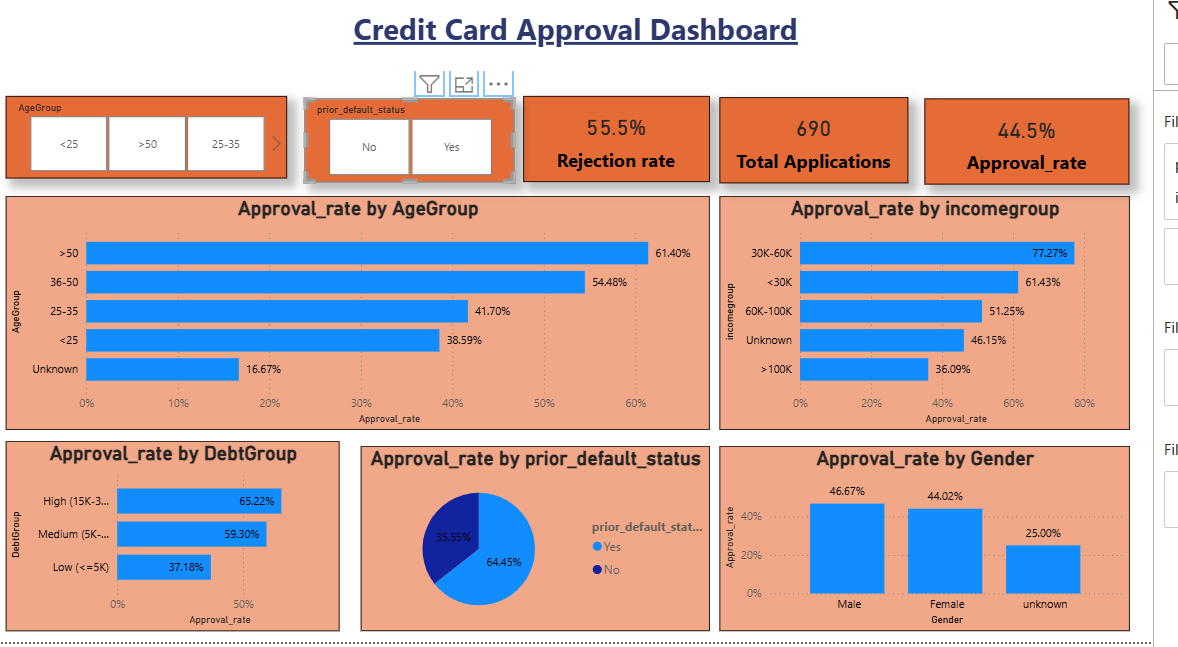

The dashboard page shown, as its layout file describes it:
{"tool":"powerbi","page":{"name":"Page 1","canvas":[1280,720],"ordinal":0},"visuals":[{"type":"clusteredBarChart","fields":{"Category":["credit_card.AgeGroup"],"Y":["credit_card.approval_rate"]},"box":[20.6,230.5,772.6,256.6],"z":0},{"type":"clusteredColumnChart","fields":{"Category":["credit_card.Gender"],"Y":["credit_card.approval_rate"]},"box":[804.1,505,450.1,203.1],"z":1000},{"type":"clusteredBarChart","fields":{"Category":["credit_card.incomegroup"],"Y":["credit_card.approval_rate"]},"box":[804.1,230.5,450.1,256.6],"z":2000},{"type":"card","fields":{"Values":["credit_card.Approval_rate"]},"box":[1029.2,123.5,225,94.7],"z":3000},{"type":"pieChart","fields":{"Category":["credit_card.prior_default_status"],"Y":["credit_card.Approval_rate"]},"box":[410.3,505,382.8,203.1],"z":4000},{"type":"clusteredBarChart","fields":{"Y":["credit_card.Approval_rate"],"Category":["credit_card.DebtGroup"]},"box":[20.6,499.5,366.4,208.6],"z":5000},{"type":"card","fields":{"Values":["credit_card.Rejection rate"]},"box":[588.7,120.8,204.5,94.7],"z":6000},{"type":"card","fields":{"Values":["credit_card.Total Applications"]},"box":[804.1,122.1,207.2,94.7],"z":7000},{"type":"slicer","fields":{"Values":["credit_card.AgeGroup"]},"box":[20.6,120.8,308.7,90.6],"z":8000},{"type":"slicer","fields":{"Values":["credit_card.prior_default_status"]},"box":[348.5,123.5,230.5,91.9],"z":9000},{"type":"textbox","box":[100.2,20.6,1092.3,72.7],"z":10000}]}

Visuals, with their boxes in screenshot pixels (x1, y1, x2, y2):
clusteredBarChart - credit_card.AgeGroup x credit_card.approval_rate: {"x1": 0, "y1": 193, "x2": 708, "y2": 429}
clusteredColumnChart - credit_card.Gender x credit_card.approval_rate: {"x1": 718, "y1": 446, "x2": 1131, "y2": 632}
clusteredBarChart - credit_card.incomegroup x credit_card.approval_rate: {"x1": 718, "y1": 193, "x2": 1131, "y2": 429}
card - credit_card.Approval_rate: {"x1": 925, "y1": 95, "x2": 1131, "y2": 182}
pieChart - credit_card.prior_default_status x credit_card.Approval_rate: {"x1": 356, "y1": 446, "x2": 708, "y2": 632}
clusteredBarChart - credit_card.Approval_rate x credit_card.DebtGroup: {"x1": 0, "y1": 441, "x2": 334, "y2": 632}
card - credit_card.Rejection rate: {"x1": 520, "y1": 93, "x2": 708, "y2": 180}
card - credit_card.Total Applications: {"x1": 718, "y1": 94, "x2": 908, "y2": 181}
slicer - credit_card.AgeGroup: {"x1": 0, "y1": 93, "x2": 281, "y2": 176}
slicer - credit_card.prior_default_status: {"x1": 299, "y1": 95, "x2": 511, "y2": 180}
textbox: {"x1": 71, "y1": 1, "x2": 1075, "y2": 67}
